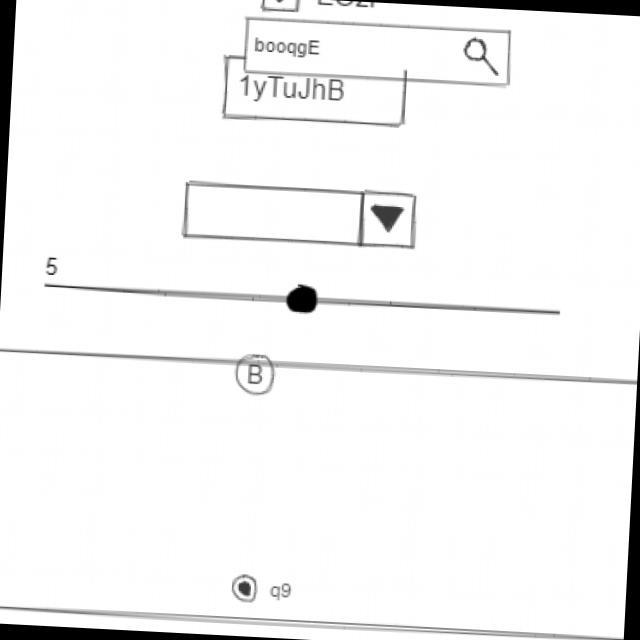checkbox: (260, 1, 379, 20)
container: (1, 345, 638, 640)
icon-button: (235, 352, 280, 400)
input: (220, 53, 412, 131)
radio: (229, 572, 296, 608)
search: (241, 14, 518, 92)
select: (180, 179, 422, 255)
slider: (67, 270, 566, 329)
